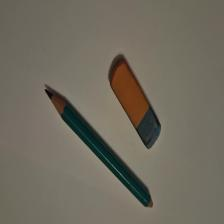eraser: (110, 60, 162, 151)
pencil: (46, 90, 154, 210)
